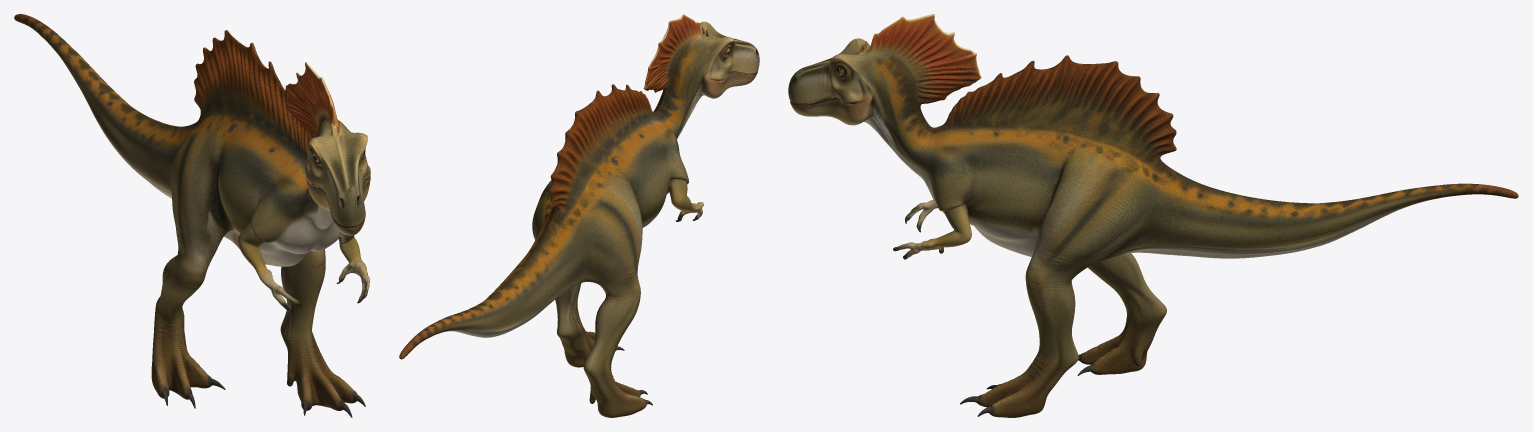
The model's file is Dilophosaurus.glb.
3 renders of one model, left to right at view 1: azimuth 30°, elevation 25°; view 2: azimuth 150°, elevation 25°; view 3: azimuth 270°, elevation 25°, orthographic. The views are drawn at different scales.
Size of the model in its own units: 0.4087 by 1.06 by 1.9.
Materials: 1 (1 with a texture image).
